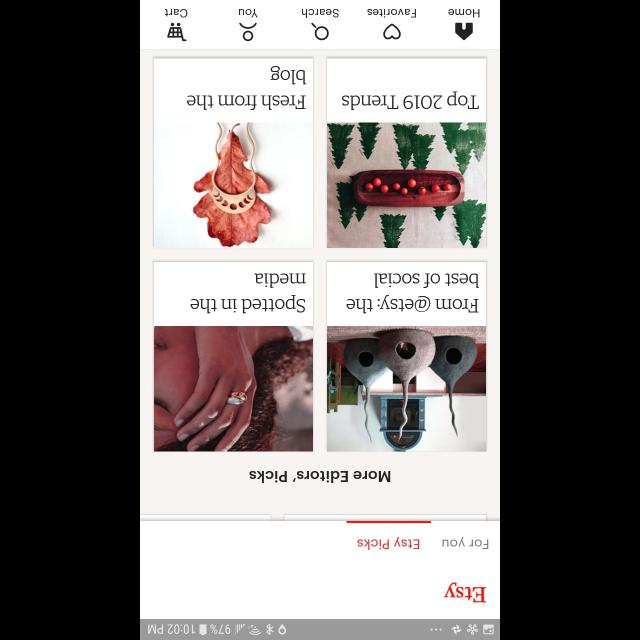icon: (167, 22, 187, 42), (239, 22, 257, 42), (455, 23, 473, 41), (311, 23, 329, 41), (383, 24, 401, 40)
image: (326, 325, 486, 451), (326, 122, 486, 248), (154, 325, 312, 451), (154, 122, 312, 248)
text: (346, 272, 478, 314), (186, 66, 306, 110), (190, 274, 306, 314), (341, 92, 479, 110), (250, 470, 390, 482), (356, 536, 419, 550), (444, 582, 486, 602), (442, 536, 488, 548), (368, 8, 417, 18), (302, 9, 338, 19), (448, 8, 480, 18), (165, 8, 188, 18), (238, 8, 258, 18)
uppertaskbar: (140, 618, 500, 640)
